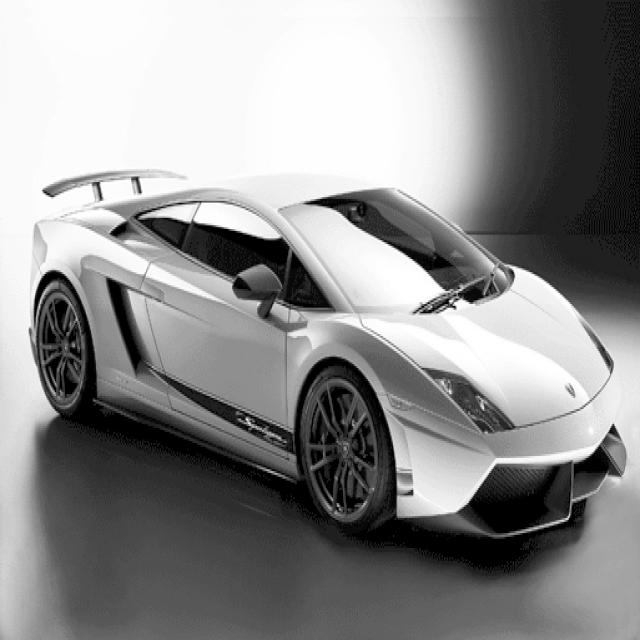car: (28, 167, 626, 541)
